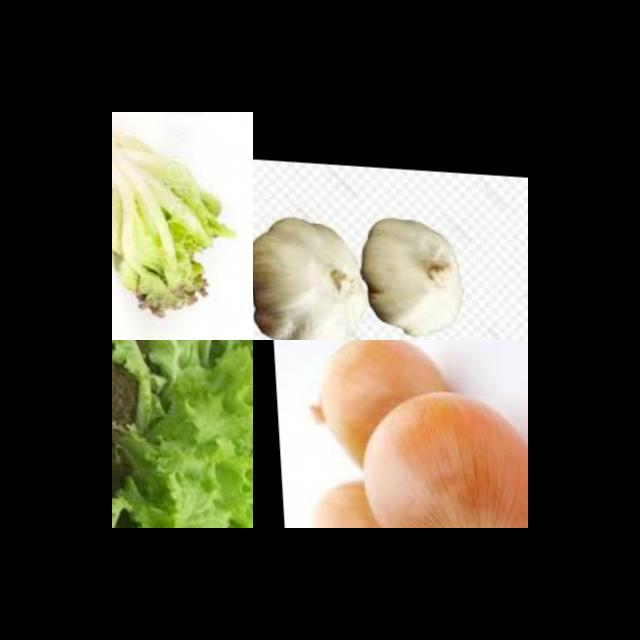garlic: (359, 208, 474, 339), (253, 206, 364, 340)
onion: (354, 384, 528, 528), (312, 340, 456, 480), (302, 471, 445, 528)
